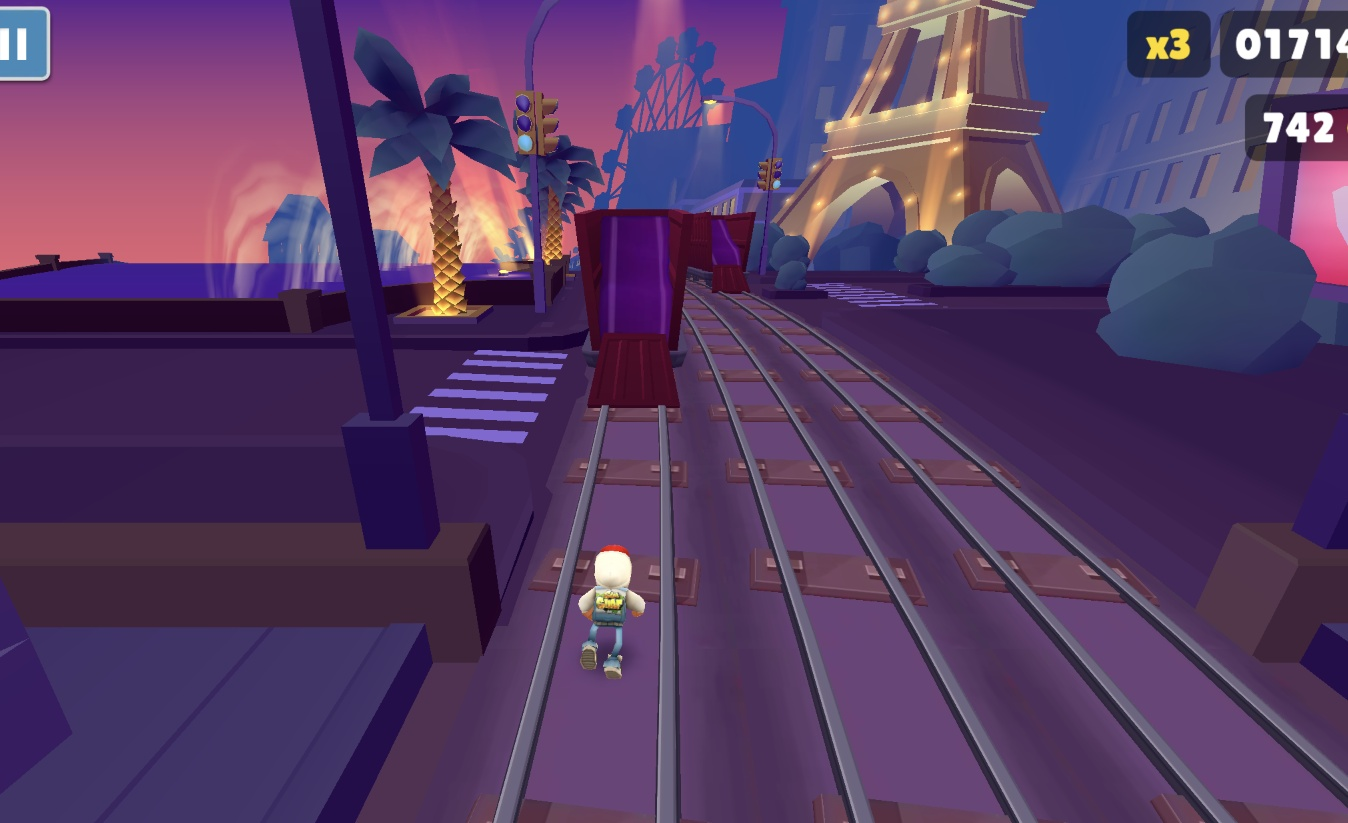train: (570, 207, 695, 409), (686, 211, 758, 295)
